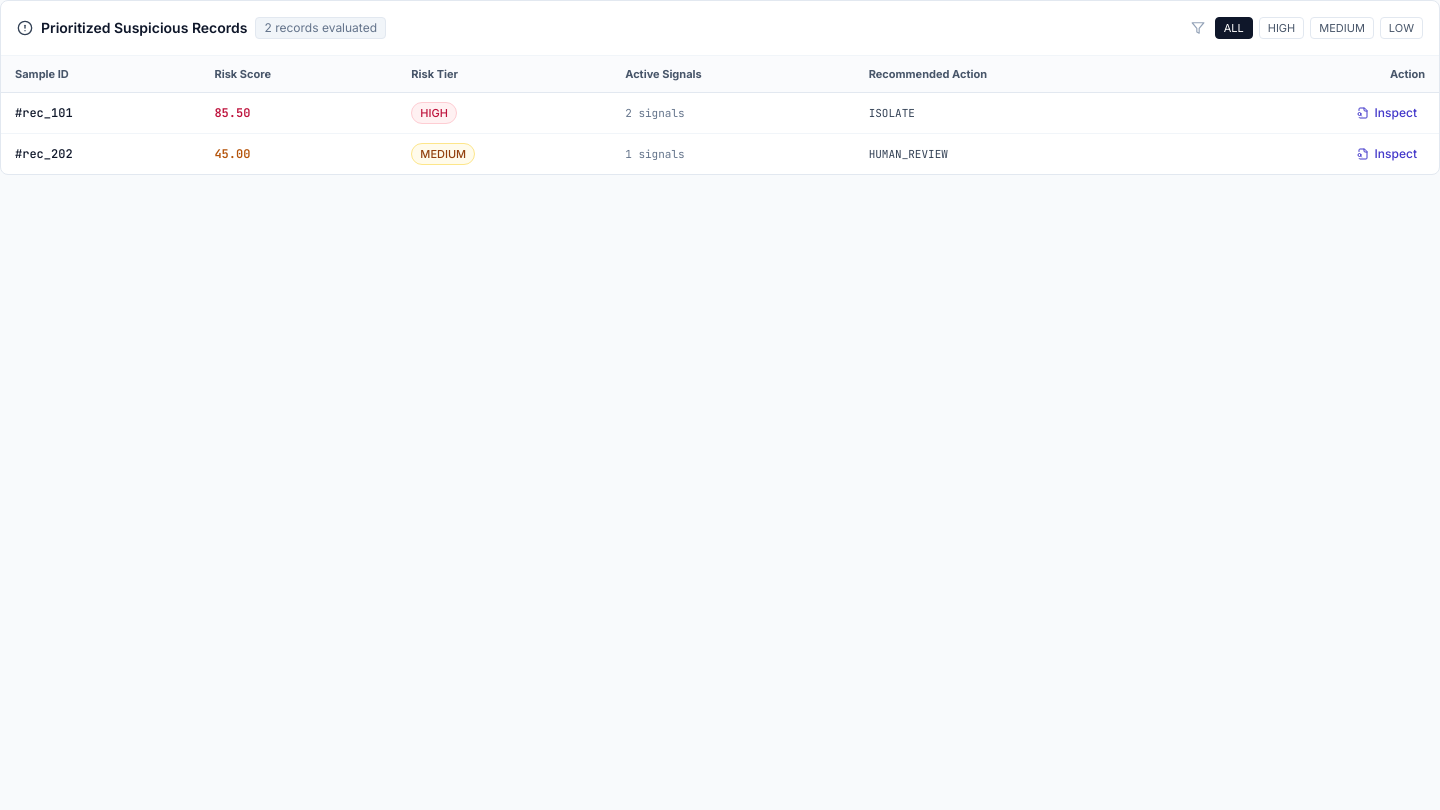
Test case: SuspiciousSamplesTable › opens the detail drawer when Inspect is clicked
Click the button "Inspect" in the row of "rec_101" at (1387, 113), box [1349,101,1425,125]
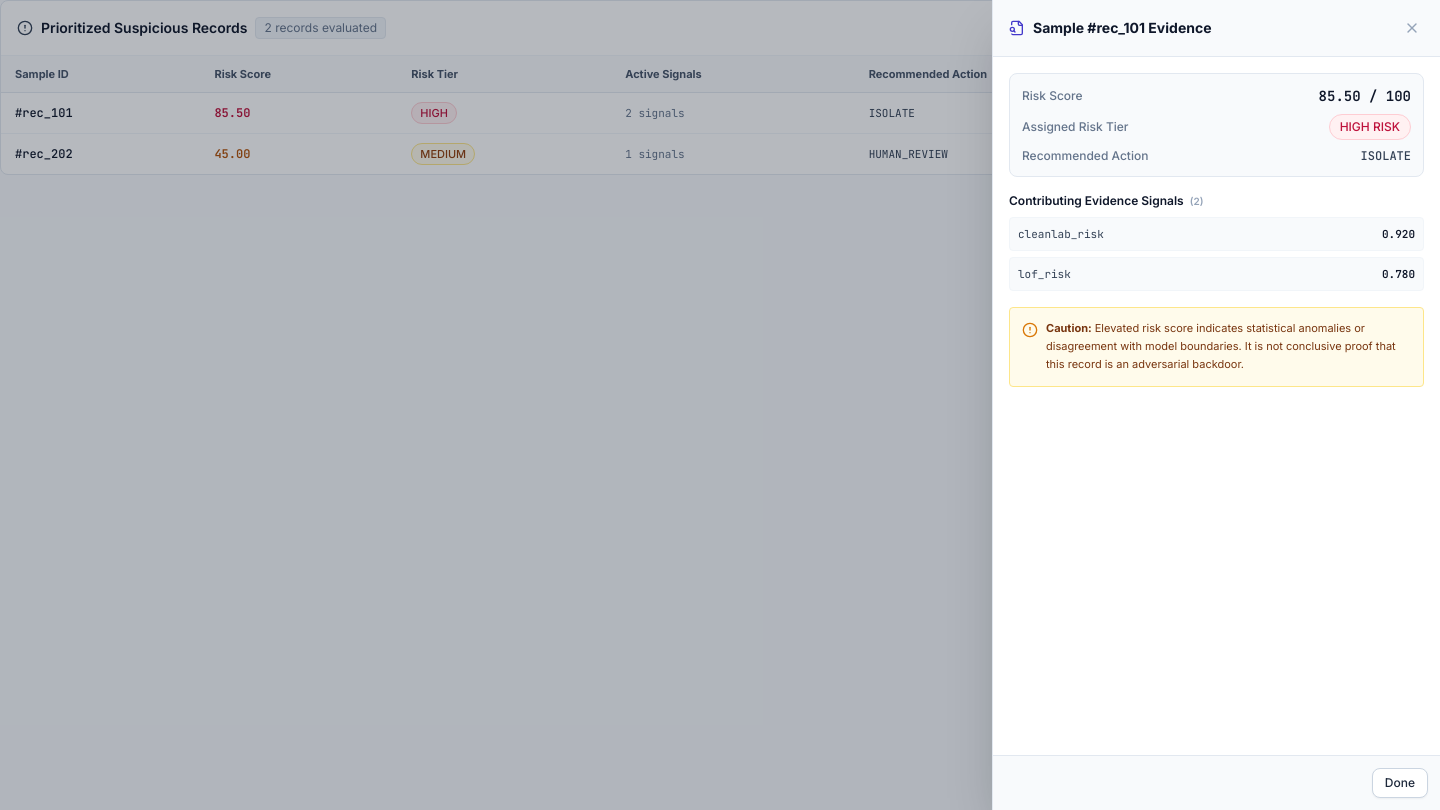
Now the heading "Sample #rec_101 Evidence" is shown, box [1033,18,1212,38]
Now the text "cleanlab_risk" is shown, box [1018,226,1104,242]
